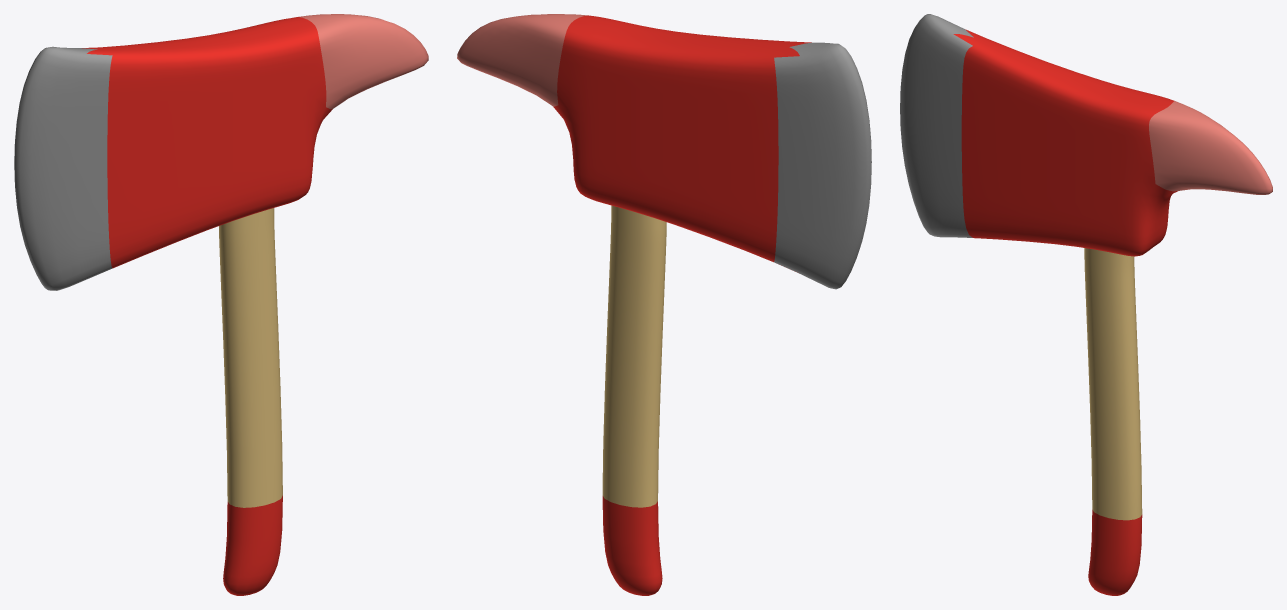
Rendered from Chopper01.fbx.
The picture shows the model from 3 angles, left to right: view 1: azimuth 30°, elevation 25°; view 2: azimuth 150°, elevation 25°; view 3: azimuth 330°, elevation 25°; orthographic projection. The views are drawn at different scales.
Parts seen in each view (by area): view 1: Cube.133, Cube.134; view 2: Cube.133, Cube.134; view 3: Cube.133, Cube.134.
Boxes of the visible parts, x1,y1,x2,y2 form: Cube.133: (14, 14, 428, 290); Cube.134: (219, 208, 282, 595); Cube.133: (457, 14, 871, 289); Cube.134: (602, 205, 666, 595); Cube.133: (900, 14, 1272, 256); Cube.134: (1084, 248, 1142, 595).
Size of the model in its own units: 56.43 by 77.64 by 7.9.
